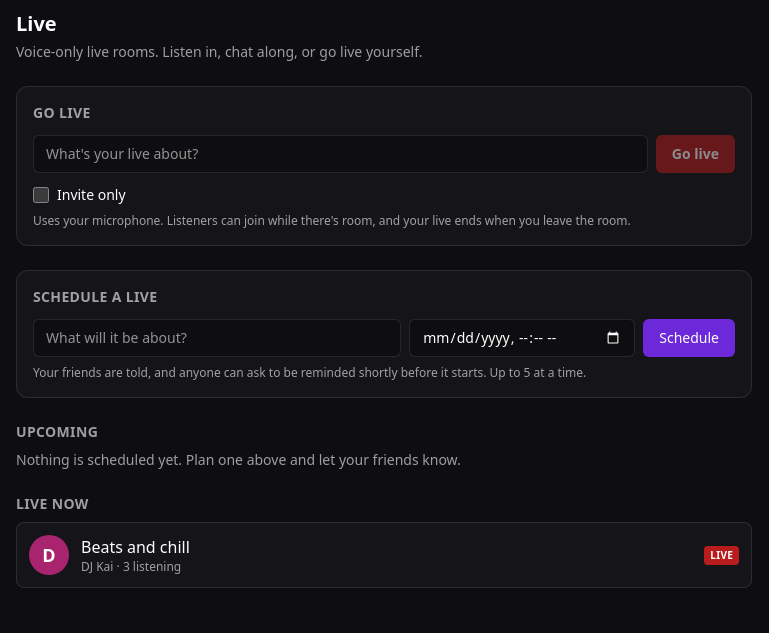
LivePage: going live › explains a missing or busy microphone
Type "My first live" into the field named "Live title" at (340, 154), box x1=33 y1=135 x2=648 y2=173
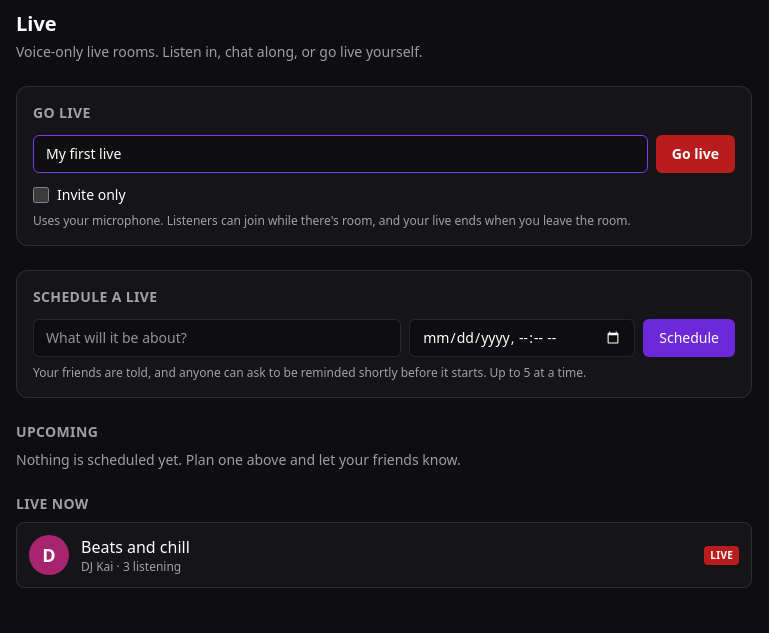
Click the button "Go live" at (695, 154), box x1=656 y1=135 x2=735 y2=173
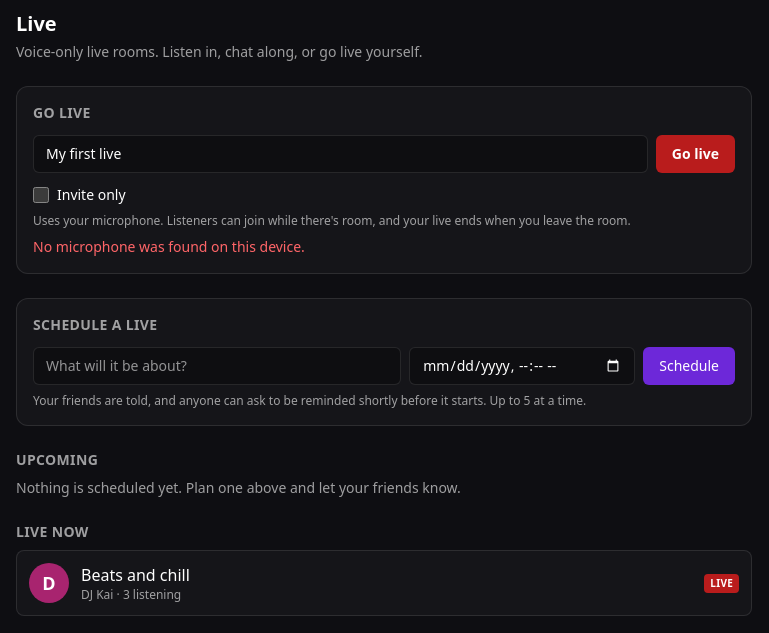
Now the message shows "No microphone was found", box x1=33 y1=237 x2=305 y2=256
Click the button "Go live" at (695, 154), box x1=656 y1=135 x2=735 y2=173
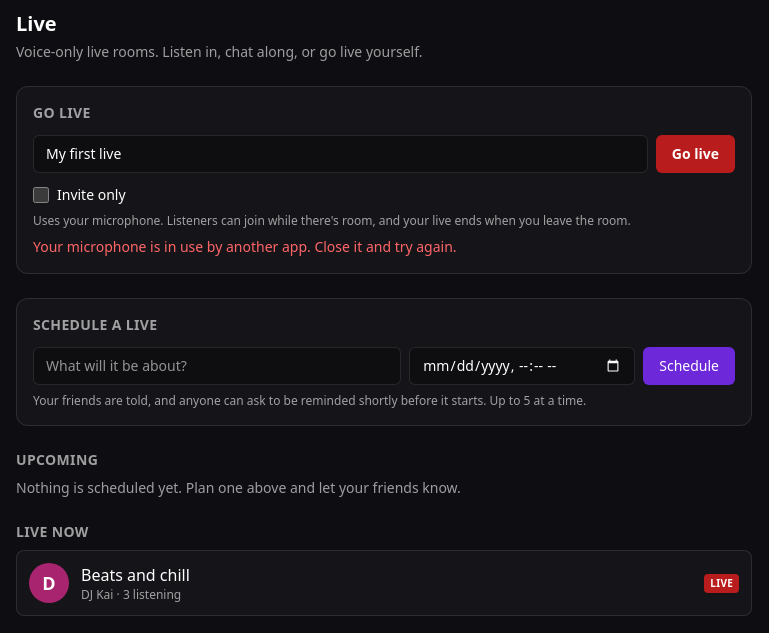
Now the text "Your microphone is in use by another app. Close it and try again." is shown, box x1=33 y1=237 x2=457 y2=256
